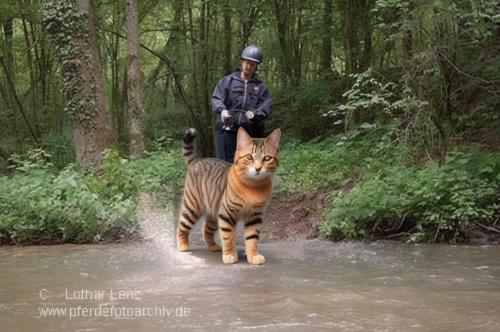cat: (174, 122, 282, 263)
person: (171, 44, 294, 226)
person/foot: (175, 193, 198, 209), (261, 208, 278, 222)
person/hand: (220, 110, 231, 119), (247, 111, 256, 120)
person/head: (240, 45, 264, 76)
